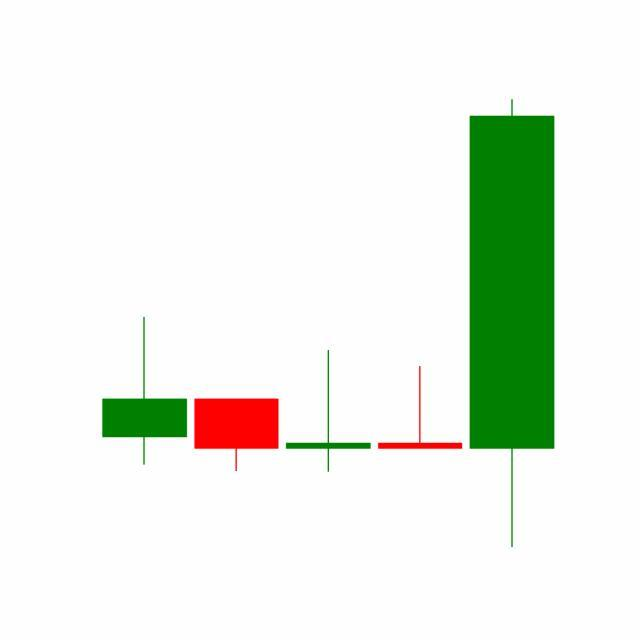Gravestone Doji: (374, 365, 468, 450)
